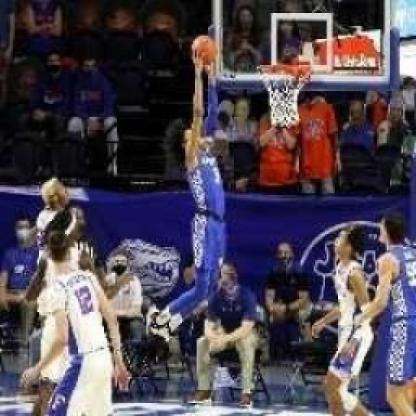basketball: (194, 36, 216, 66)
